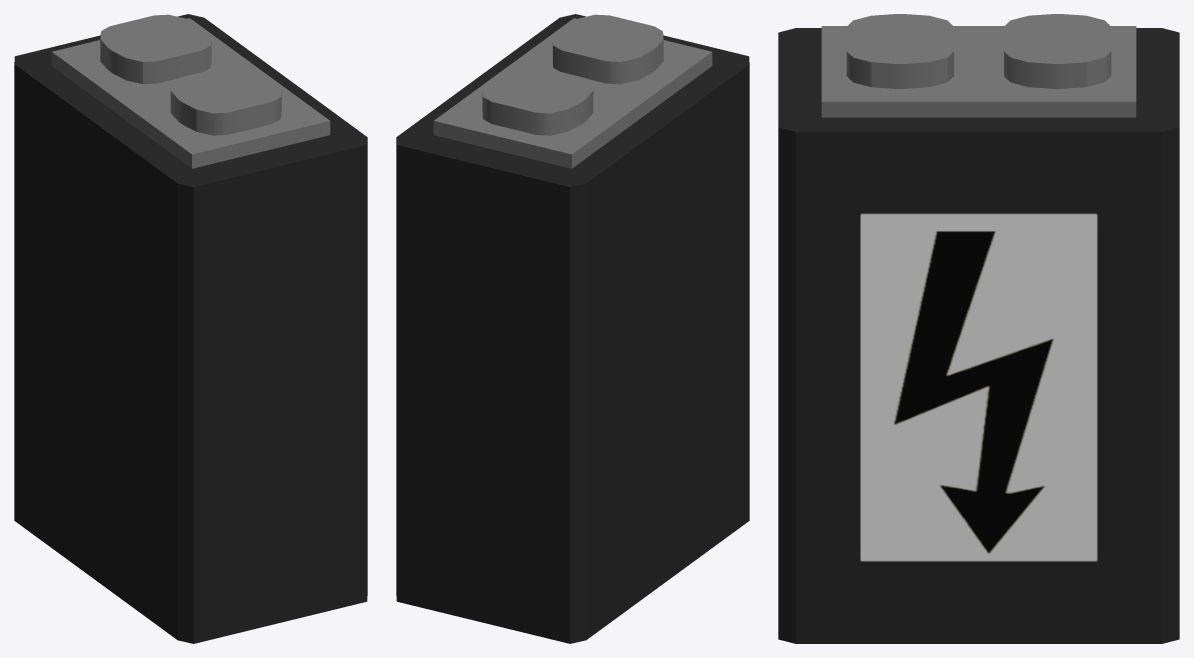
The model's file is Elec_battery big.fbx.
3 views of the same model, side by side, from view 1: azimuth 30°, elevation 25°; view 2: azimuth 150°, elevation 25°; view 3: azimuth 270°, elevation 25° (orthographic). The views are drawn at different scales.
Visible parts, largest first — view 1: Cube; view 2: Cube; view 3: Cube.
Part boxes in pixels (<box>): Cube: <box>14,14,367,643</box>; Cube: <box>396,14,749,643</box>; Cube: <box>778,14,1179,643</box>.
Size of the model in its own units: 13.28 by 32.97 by 21.67.
Materials: 1 (1 with a texture image).
